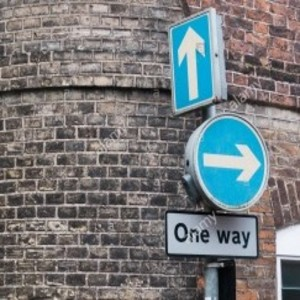trun_right: (195, 115, 267, 209)
